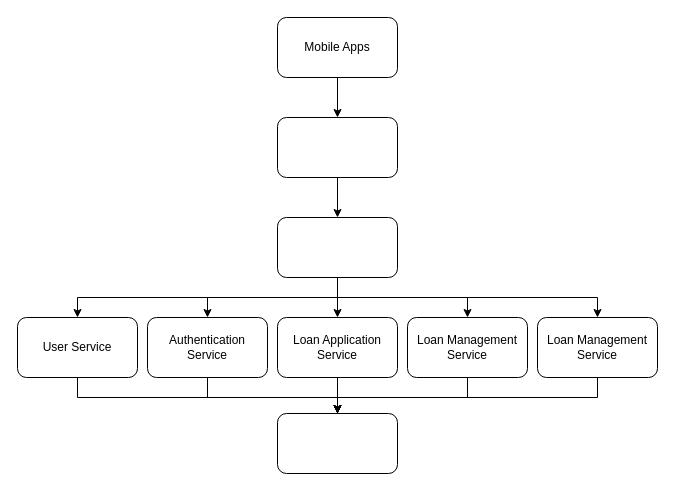
This 675x491 diagram has some shape labels left out. The shapes that lost their labels are listed below. From the top down, each one's centre as x and y in pixels, then its label:
At [337,147]: "API Gateaway".
At [337,247]: "Application Services".
At [337,443]: "Database".
